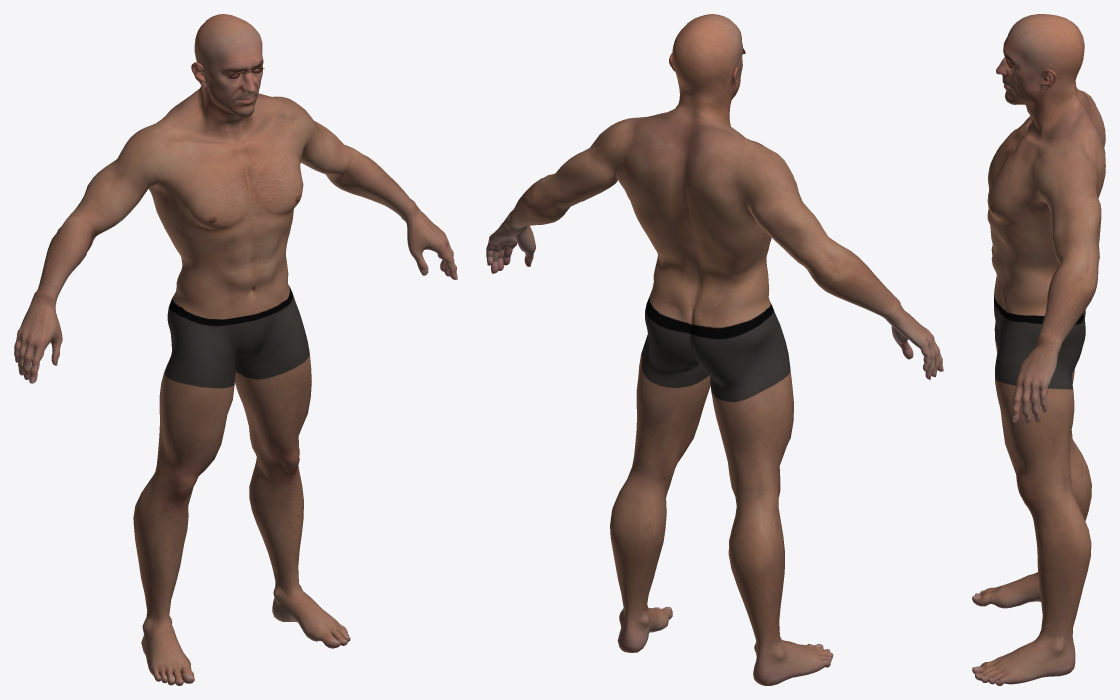
Rendered from Craig.obj.
3 views of the same model, side by side, from view 1: azimuth 30°, elevation 25°; view 2: azimuth 150°, elevation 25°; view 3: azimuth 270°, elevation 25° (orthographic). The views are drawn at different scales.
Visible parts, largest first — view 1: CC_Base_Body; view 2: CC_Base_Body; view 3: CC_Base_Body.
Boxes of the visible parts, x1,y1,x2,y2 form: CC_Base_Body: (14, 14, 457, 685); CC_Base_Body: (486, 14, 943, 685); CC_Base_Body: (972, 14, 1105, 685).
Bounding box in the file's own units: 131 × 181 × 35.2.
Materials: 17 (13 with a texture image).
